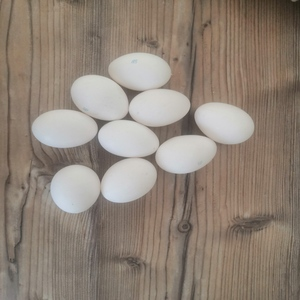white egg: (31, 107, 99, 149), (70, 74, 129, 122), (194, 100, 255, 146), (100, 157, 158, 204), (108, 51, 172, 92), (50, 164, 102, 214), (155, 134, 218, 175), (98, 118, 160, 158), (129, 87, 191, 127)
